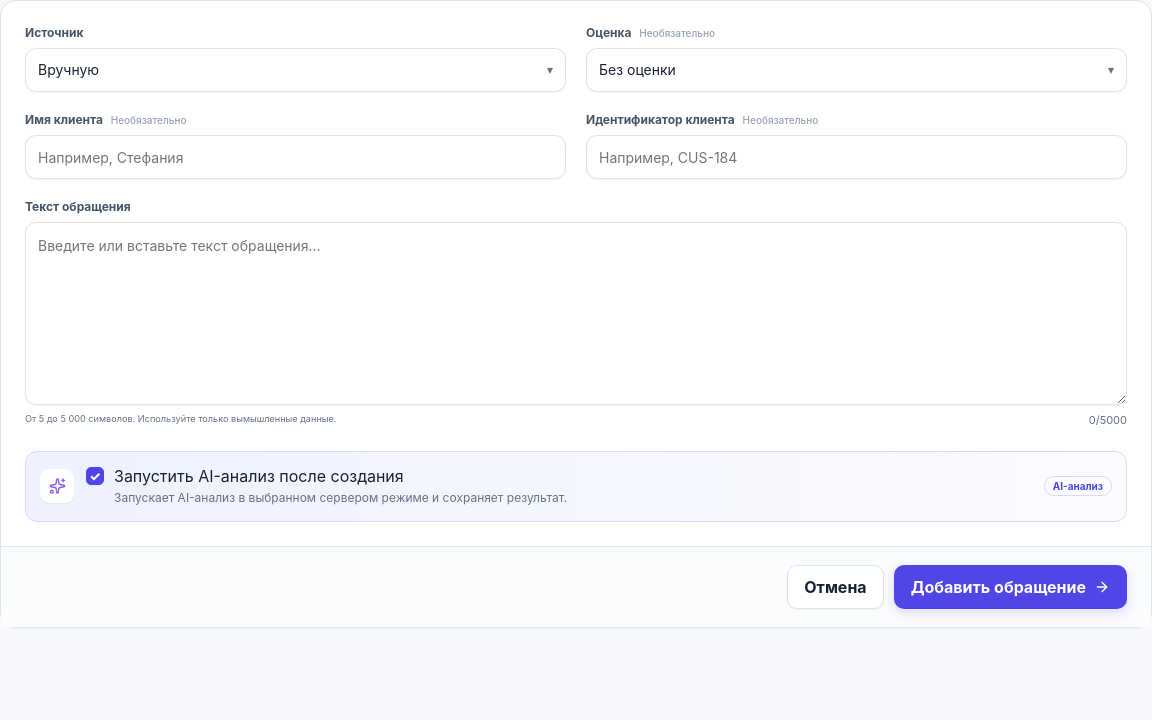
CreateFeedbackForm › keeps created feedback and shows the exact quota reason on its details page
The image size is (1152, 720).
Type "Доставка прибыла позже обещанного срока." into the text box labelled "Текст обращения".
click(576, 313); type("Доставка прибыла позже обещанного срока.")  # box [25,222,1127,405]
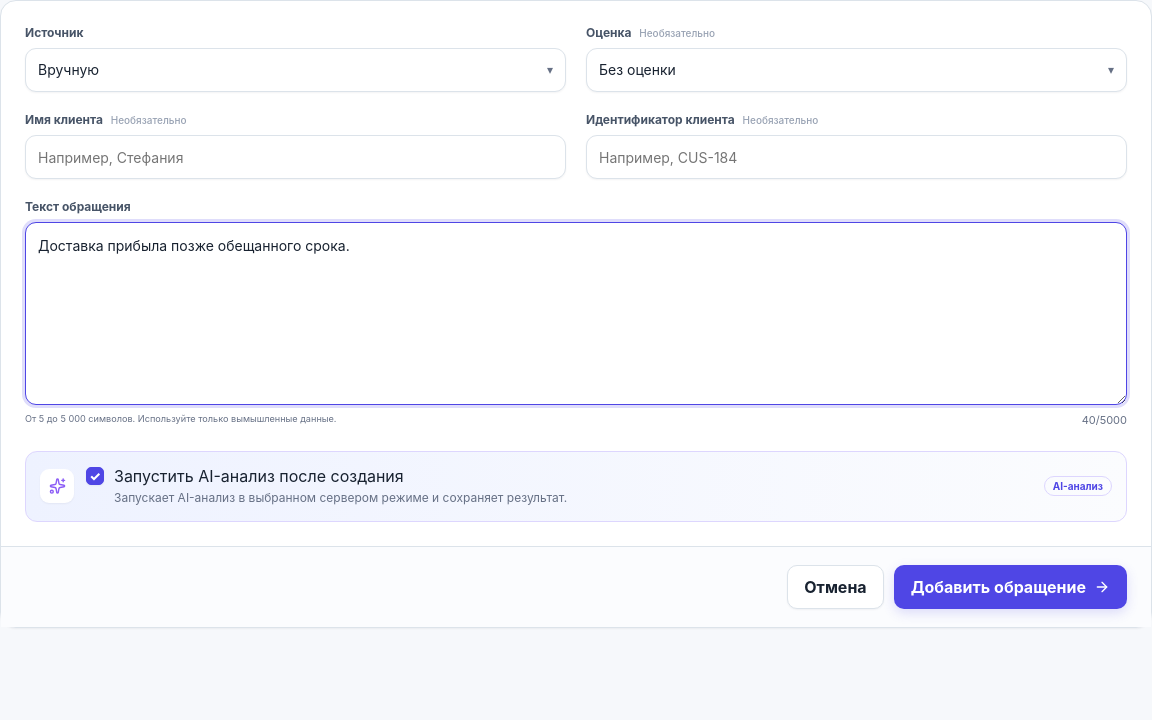
Click the button "Добавить обращение".
click(1010, 587)  # box [894,565,1127,609]
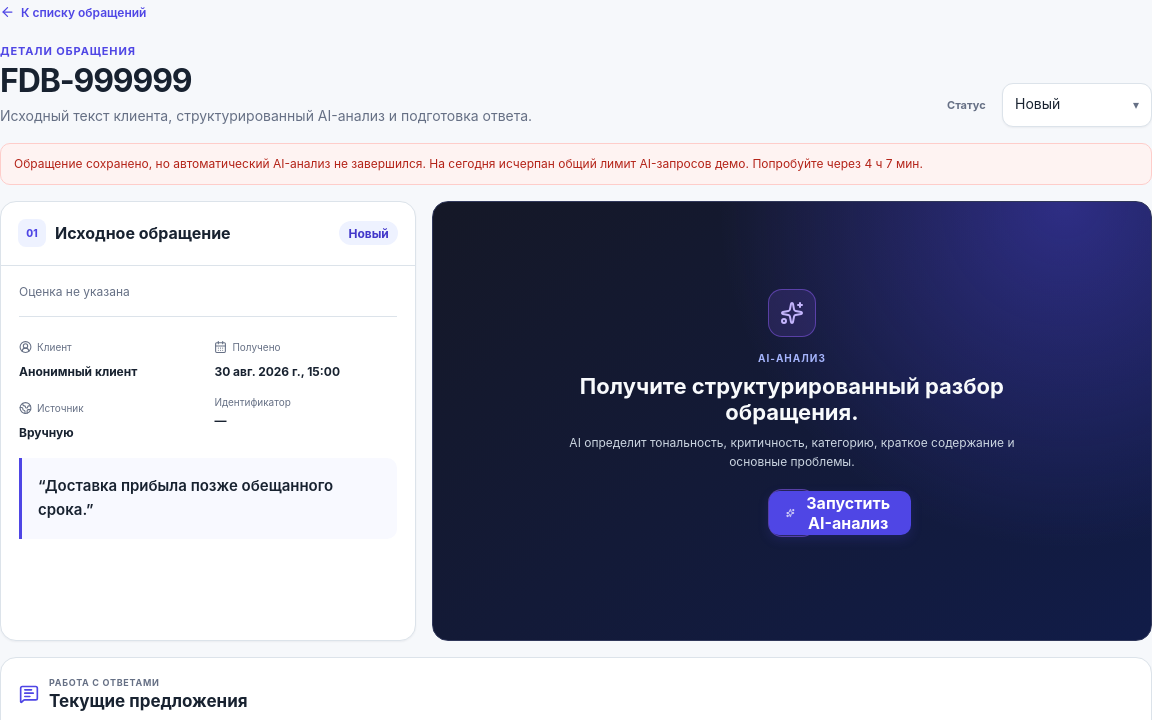
Check: the message shows "Обращение сохранено, но автоматический AI-анализ не завершился.", box [14,156,429,170]
Check: the message shows "На сегодня исчерпан общий лимит AI-запросов демо. Попробуйте через 4 ч 7 мин.", box [429,156,923,170]
